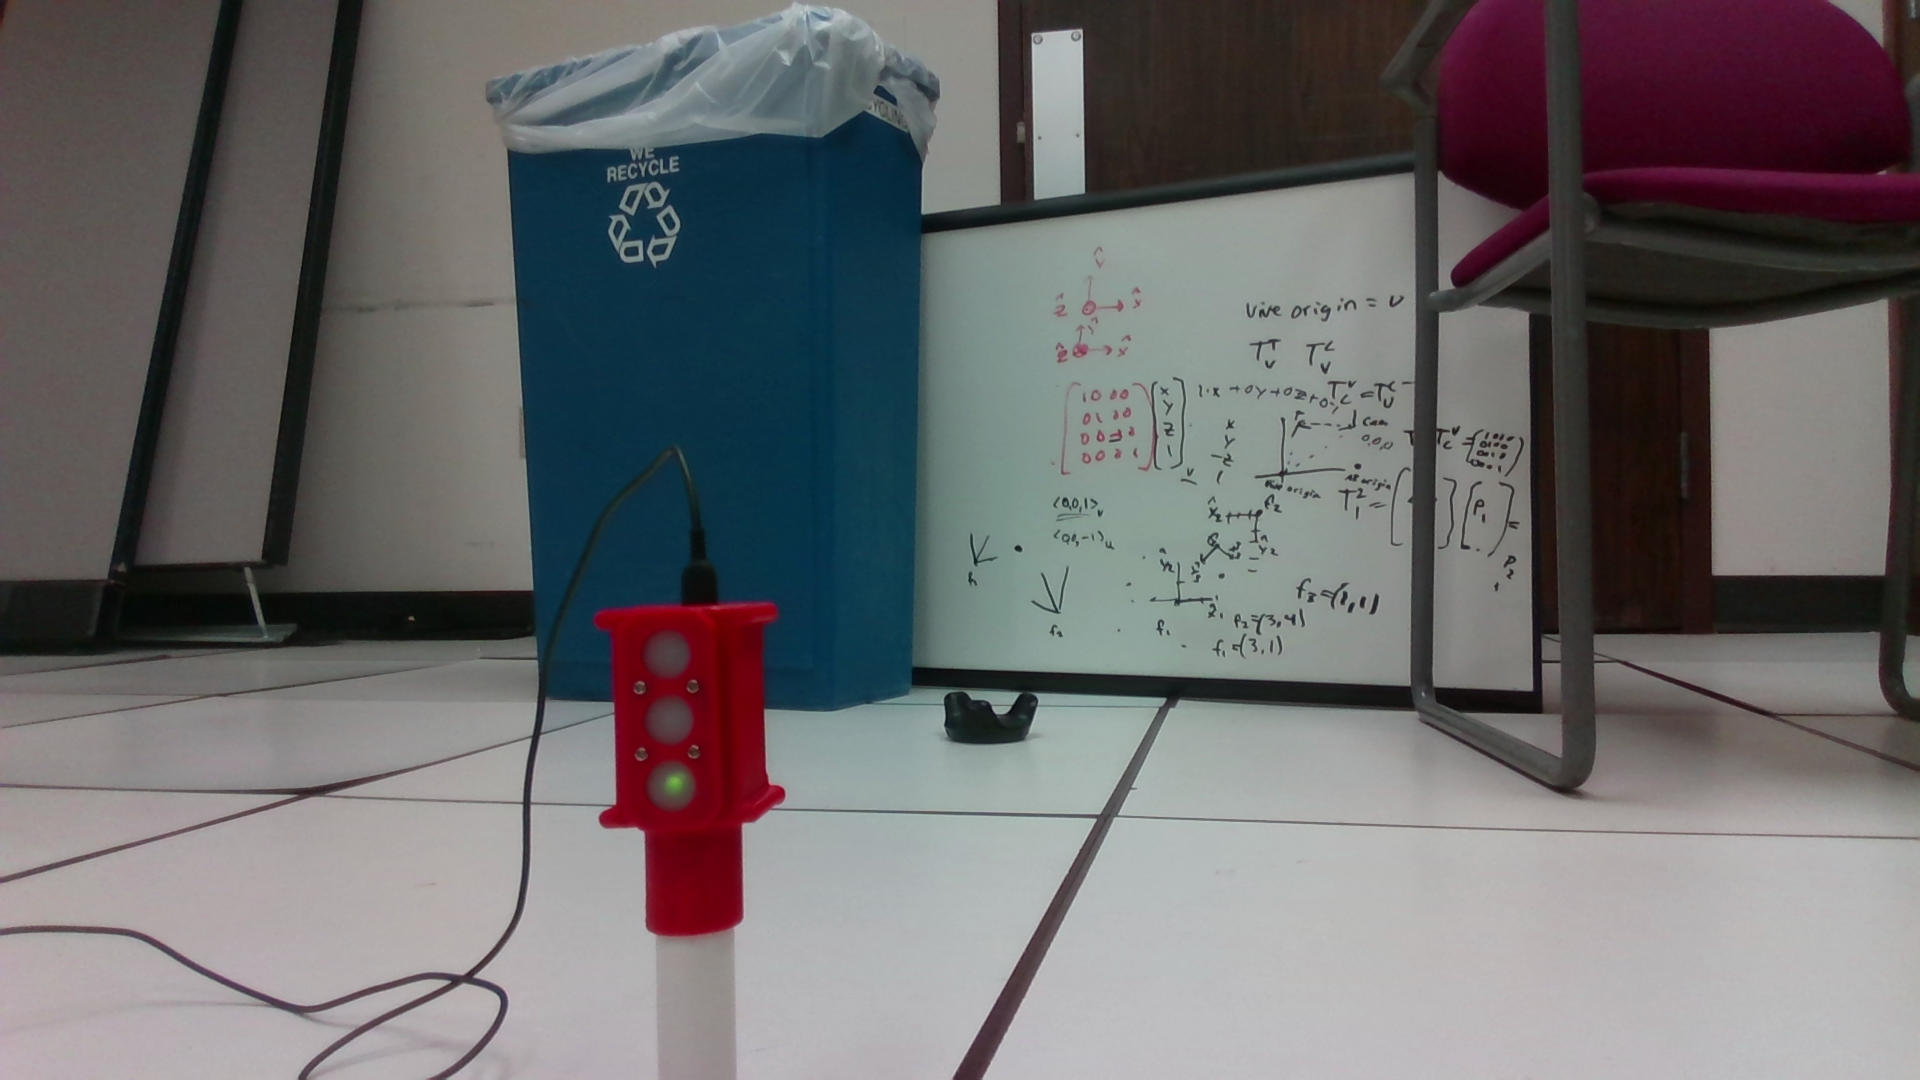stoplight: (589, 603, 786, 945)
